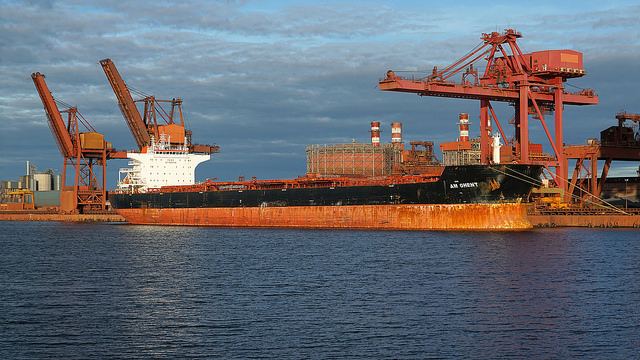bulk carrier: (107, 134, 545, 230)
